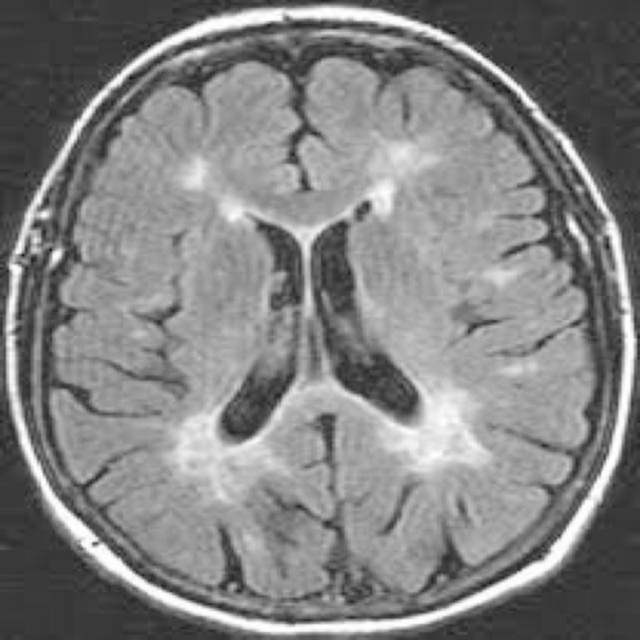glioma tumor: (120, 71, 529, 580)
